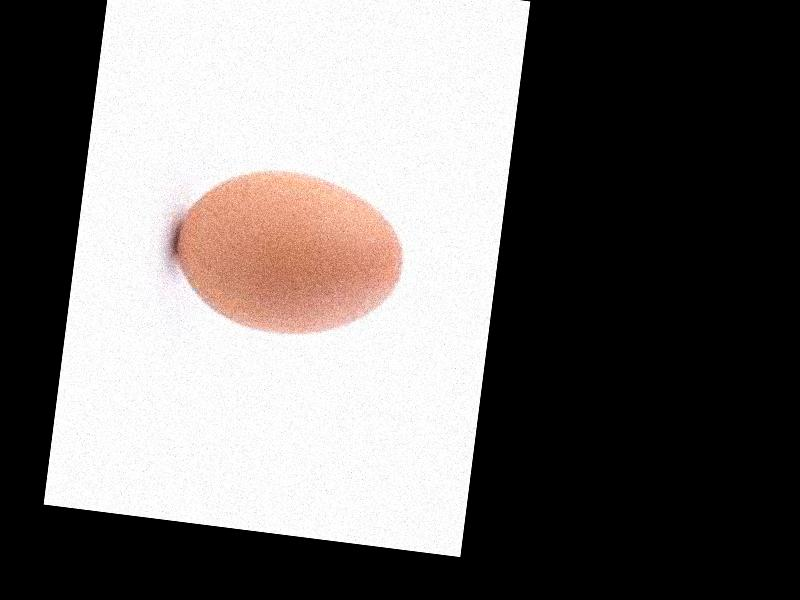Eggs: (168, 161, 413, 349)
